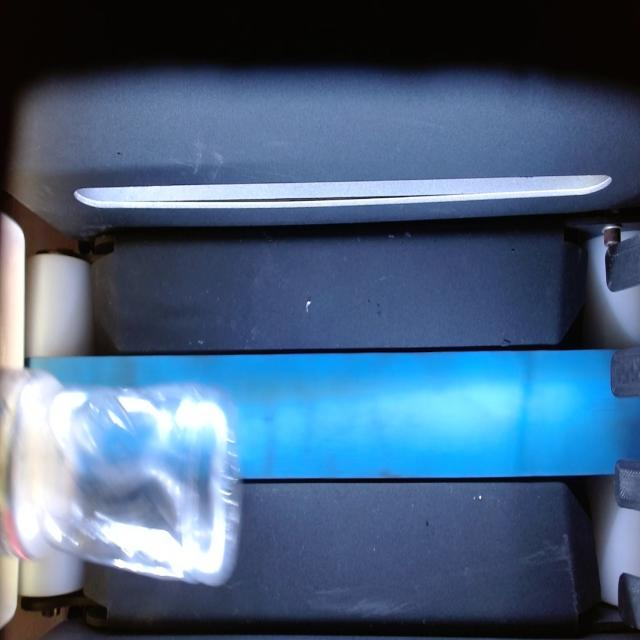bottom: (0, 369, 240, 584)
